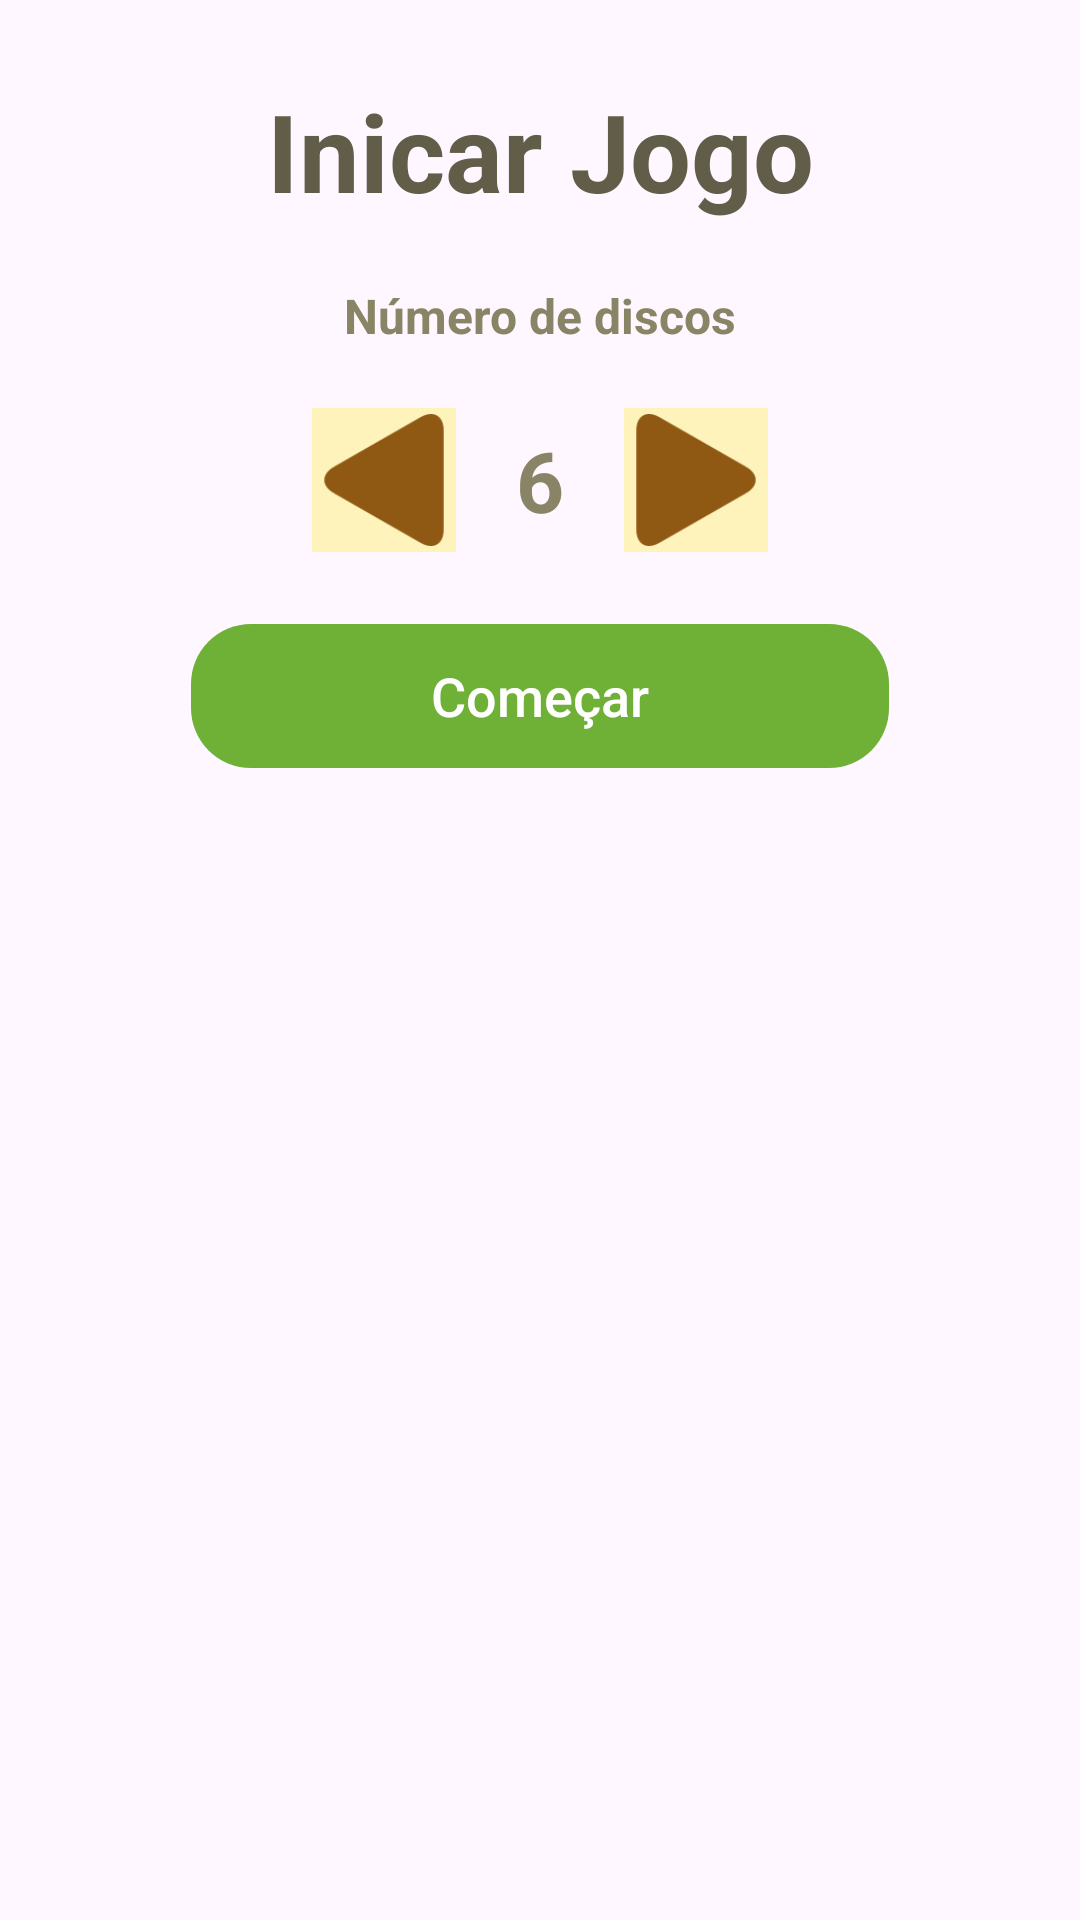

Icon click points for this 1080 x 1920 phone screenshot, format point (x, y):
seta para direita: point (696, 480)
